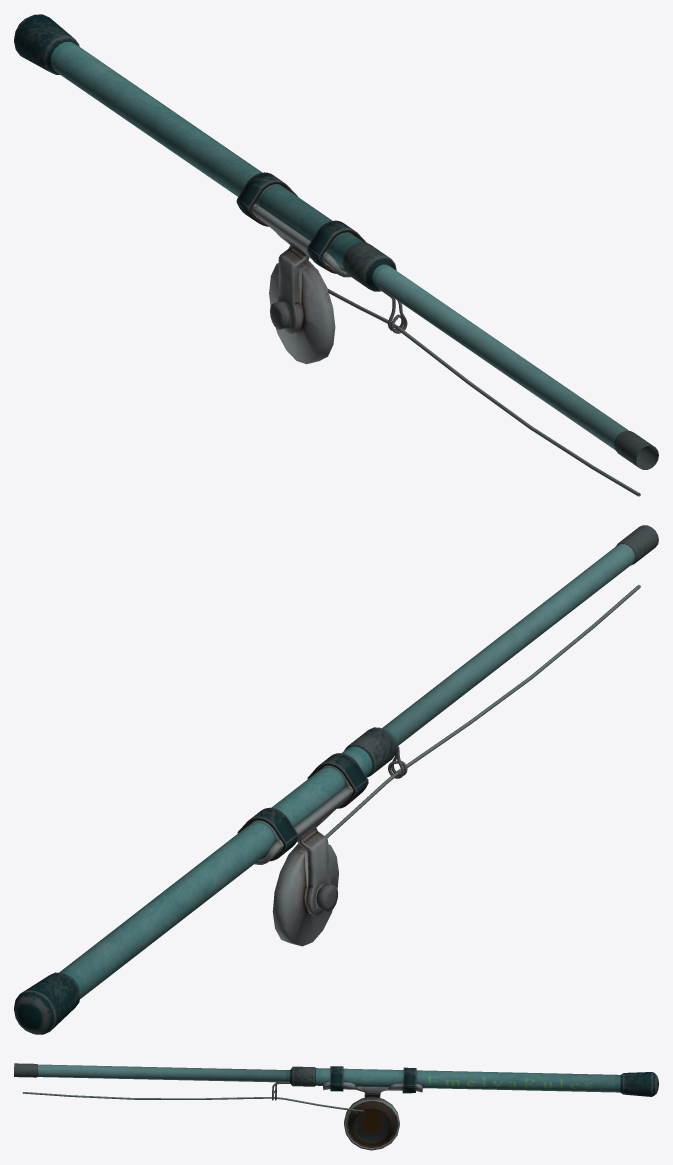
File: pole_new.fbx
3 renders of one model, top to bottom at view 1: azimuth 30°, elevation 25°; view 2: azimuth 150°, elevation 25°; view 3: azimuth 270°, elevation 25°, orthographic. The views are drawn at different scales.
Parts seen in each view (by area): view 1: spining01; view 2: spining01; view 3: spining01.
Part boxes in pixels (x1,y1,x2,y2): spining01: [14, 14, 658, 496]; spining01: [14, 525, 658, 1034]; spining01: [14, 1063, 658, 1150].
Bounding box in the file's own units: 5.85 × 17.26 × 118.
Materials: 1 (1 with a texture image).
